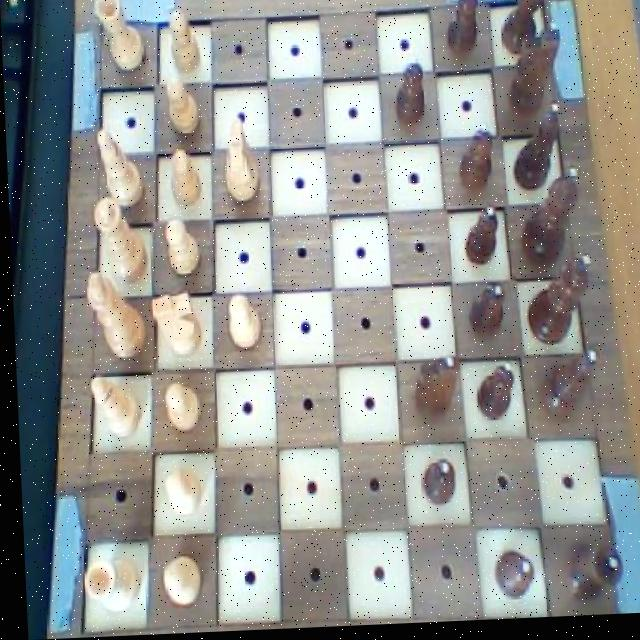bishop: (522, 255, 596, 350), (504, 102, 566, 199), (531, 352, 600, 430)
black-king: (497, 26, 565, 126), (405, 357, 461, 428)
black-knight: (387, 53, 434, 133), (451, 124, 496, 198), (469, 363, 515, 432), (460, 208, 500, 281), (487, 548, 532, 611), (412, 459, 457, 517), (463, 285, 505, 347), (443, 0, 484, 63)
black-queen: (553, 541, 620, 608), (496, 0, 549, 67)
black-rook: (93, 121, 147, 216), (81, 371, 145, 444)
white-bishop: (79, 266, 145, 363)
white-king: (215, 119, 263, 211), (146, 286, 202, 364)
white-knight: (153, 552, 199, 615), (164, 4, 201, 81), (159, 217, 201, 282), (161, 75, 199, 145), (164, 146, 203, 214), (222, 290, 262, 356), (156, 466, 200, 522), (161, 380, 200, 434)
white-pawn: (86, 192, 149, 291)
white-queen: (93, 0, 152, 82), (74, 551, 139, 615)
